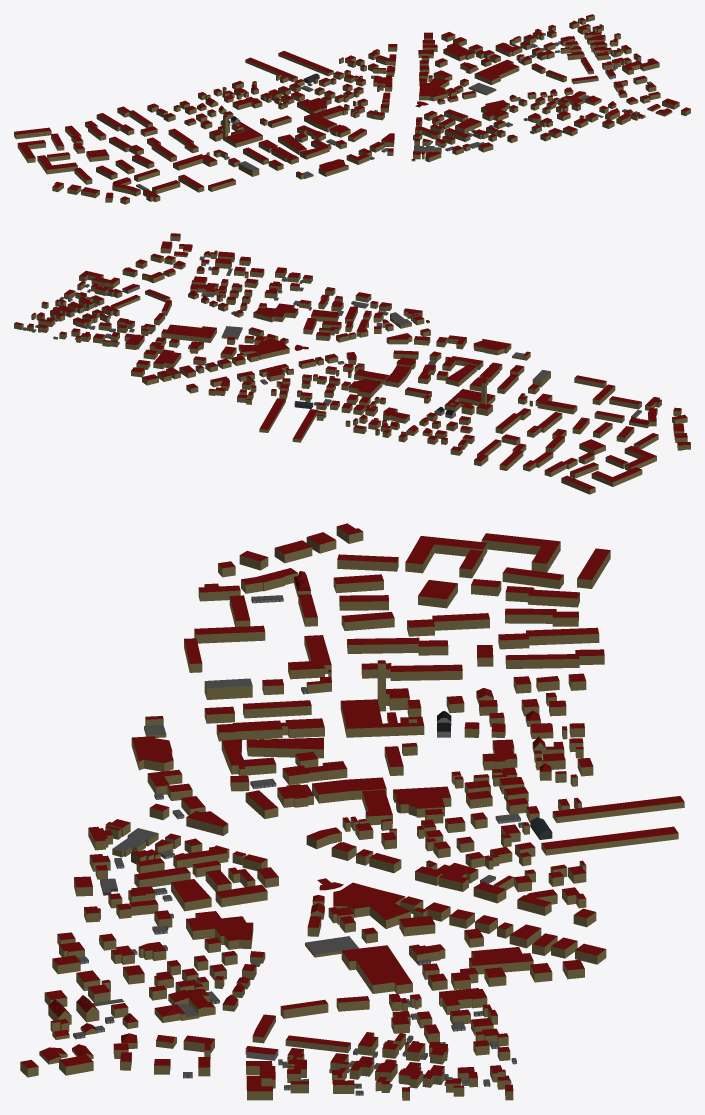
File: Ingolstadt_Tile_7_9.obj
The picture shows the model from 3 angles, top to bottom: view 1: azimuth 30°, elevation 25°; view 2: azimuth 150°, elevation 25°; view 3: azimuth 270°, elevation 25°; orthographic projection. The views are drawn at different scales.
Visible parts, largest first — view 1: Building Lidl, Building384, Building St. Josef, Building217, Building265, Building420, Building120, Building154, Building287, Building314, Building130, Building119 (+8 smaller); view 2: Building Lidl, Building384, Building120, Building420, Building130, Building314, Building265, Building119; view 3: Building Lidl, Building265, Building217, Building384, Building287, Building255, Building254, Building120, Building312, Building256, Building St. Josef, Building130 (+25 smaller).
Part boxes in pixels (left/top/right/bottom): Building Lidl: left=474, top=59, right=519, bottom=84; Building384: left=481, top=100, right=509, bottom=121; Building St. Josef: left=225, top=129, right=262, bottom=147; Building217: left=278, top=51, right=333, bottom=76; Building265: left=258, top=139, right=298, bottom=164; Building420: left=173, top=154, right=217, bottom=170; Building120: left=37, top=155, right=77, bottom=174; Building154: left=443, top=43, right=474, bottom=61; Building287: left=245, top=57, right=297, bottom=81; Building314: left=318, top=159, right=348, bottom=176; Building130: left=297, top=98, right=327, bottom=114; Building119: left=622, top=58, right=659, bottom=74; Building Lidl: left=161, top=324, right=216, bottom=342; Building384: left=253, top=303, right=298, bottom=322; Building120: left=624, top=445, right=656, bottom=470; Building420: left=535, top=393, right=577, bottom=414; Building130: left=348, top=378, right=382, bottom=397; Building314: left=473, top=338, right=511, bottom=355; Building265: left=469, top=362, right=502, bottom=391; Building119: left=79, top=270, right=119, bottom=288; Building Lidl: left=341, top=945, right=412, bottom=993; Building265: left=216, top=718, right=324, bottom=741; Building217: left=541, top=826, right=678, bottom=855; Building384: left=186, top=911, right=253, bottom=949; Building287: left=552, top=796, right=684, bottom=822; Building255: left=347, top=637, right=448, bottom=655; Building254: left=498, top=627, right=599, bottom=649; Building120: left=405, top=536, right=487, bottom=573; Building312: left=505, top=649, right=604, bottom=668; Building256: left=361, top=663, right=462, bottom=680; Building St. Josef: left=340, top=699, right=383, bottom=737; Building130: left=393, top=786, right=451, bottom=817.
Bounding box in the file's own units: 1021 × 40 × 504.
